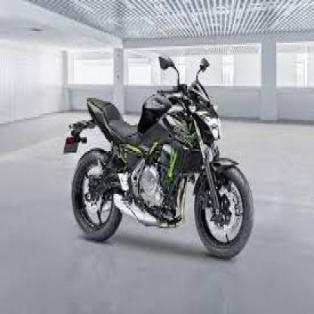Motocicleta: (60, 48, 258, 262)
